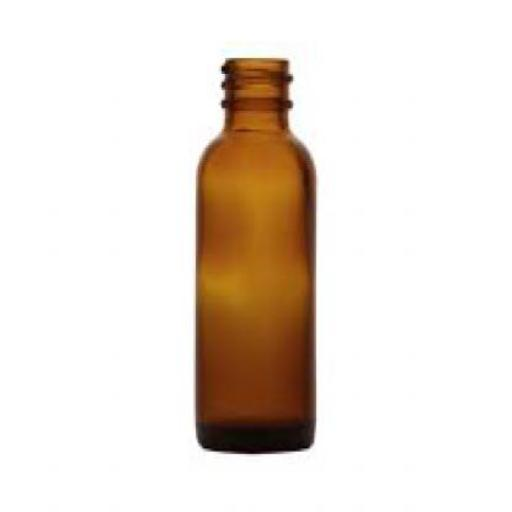glass: (194, 58, 314, 452)
